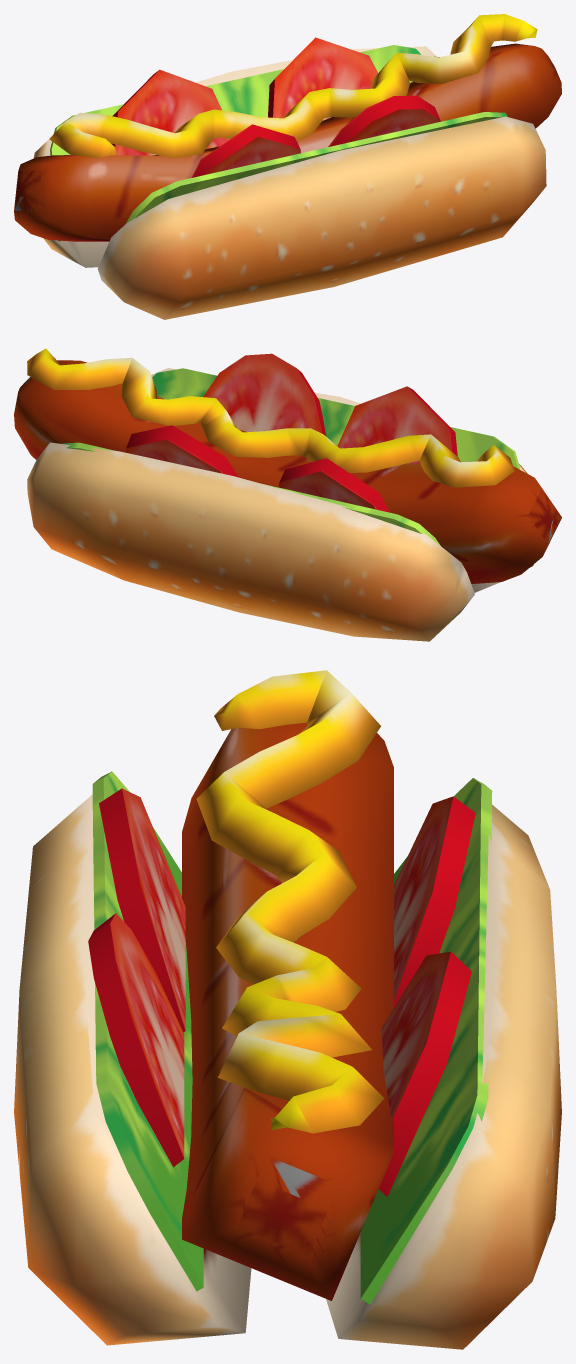
Rendered from hot dog  low.fbx.
3 renders of one model, top to bottom at view 1: azimuth 30°, elevation 25°; view 2: azimuth 150°, elevation 25°; view 3: azimuth 270°, elevation 25°, orthographic. The views are drawn at different scales.
Parts seen in each view (by area): view 1: bread.003, bread.006, bread.007, bread.008; view 2: bread.003, bread.007, bread.006, bread.008; view 3: bread.003, bread.006, bread.007, bread.008.
Boxes of the visible parts, <box> form: bread.003: <box>14,43,561,319</box>; bread.006: <box>49,14,537,158</box>; bread.007: <box>111,37,440,177</box>; bread.008: <box>50,45,507,241</box>; bread.003: <box>14,360,561,641</box>; bread.007: <box>125,353,457,512</box>; bread.006: <box>27,348,514,487</box>; bread.008: <box>62,368,520,545</box>; bread.003: <box>14,722,561,1349</box>; bread.006: <box>196,670,384,1133</box>; bread.007: <box>88,788,475,1196</box>; bread.008: <box>92,771,492,1304</box>.
Size of the model in its own units: 4.36 by 1.39 by 2.02.
